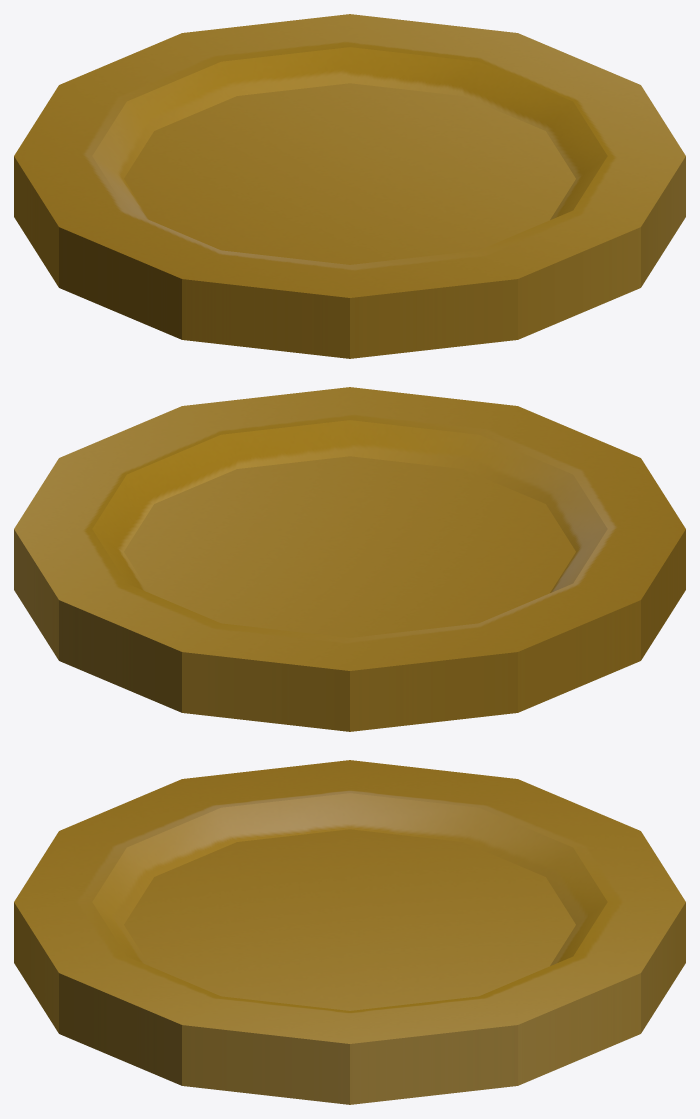
File: coin.fbx
3 views of the same model, one above another, from view 1: azimuth 30°, elevation 25°; view 2: azimuth 150°, elevation 25°; view 3: azimuth 270°, elevation 25° (orthographic).
Parts seen in each view (by area): view 1: Coin; view 2: Coin; view 3: Coin.
Part boxes in pixels (left/top/right/bottom): Coin: left=14, top=14, right=685, bottom=358; Coin: left=14, top=387, right=685, bottom=731; Coin: left=14, top=760, right=685, bottom=1104.
Size of the model in its own units: 200 by 20 by 200.
